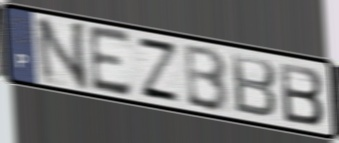B: (229, 51, 279, 121), (184, 42, 232, 114), (277, 60, 326, 128)
E: (86, 23, 134, 100)
N: (33, 17, 91, 92)
Z: (135, 34, 183, 106)
